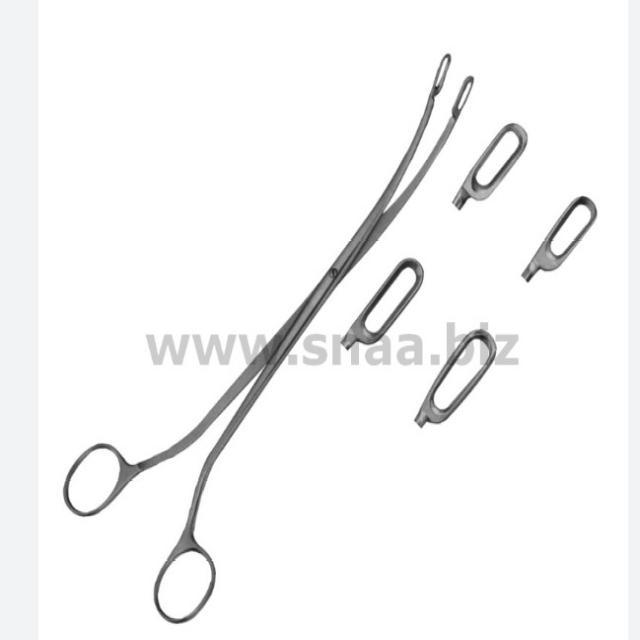Desjardin Forceps: (58, 40, 476, 626)
